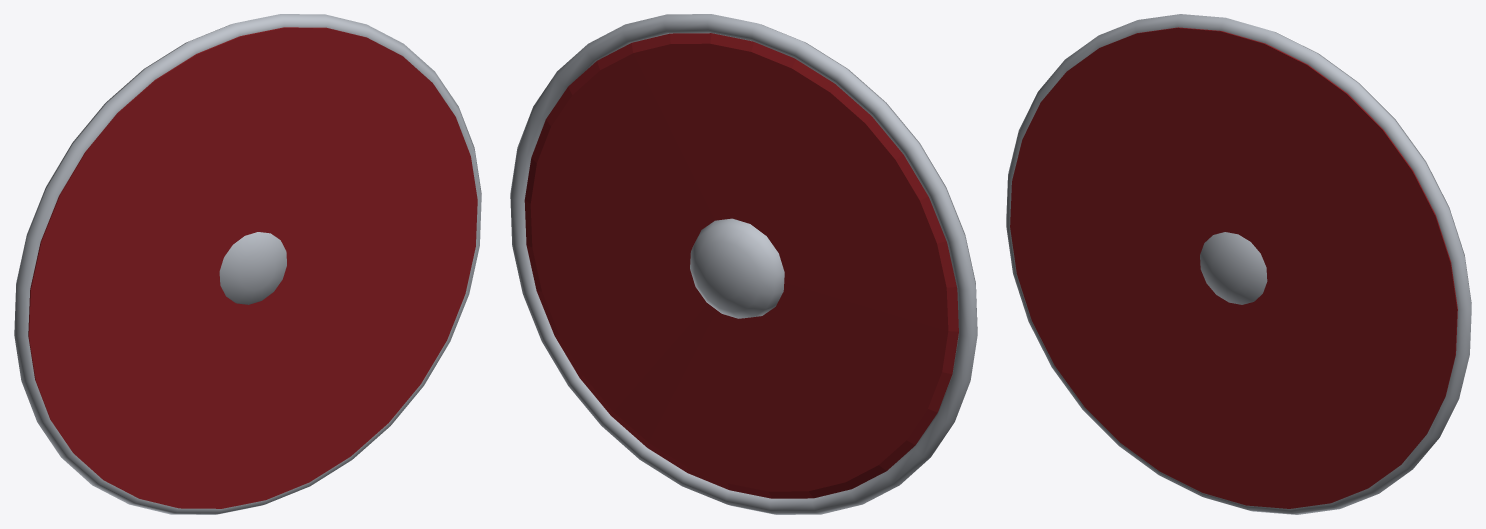
File: back_shield.glb
The picture shows the model from 3 angles, left to right: view 1: azimuth 30°, elevation 25°; view 2: azimuth 150°, elevation 25°; view 3: azimuth 330°, elevation 25°; orthographic projection.
Parts seen in each view (by area): view 1: back_shield; view 2: back_shield; view 3: back_shield.
Boxes of the visible parts, left/top/right/bottom form: back_shield: left=14, top=14, right=481, bottom=514; back_shield: left=510, top=14, right=977, bottom=514; back_shield: left=1006, top=14, right=1471, bottom=514.
Bounding box in the file's own units: 0.603 × 0.603 × 0.072.
